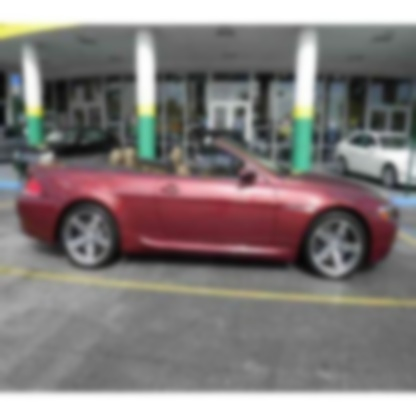Vehicle: (16, 137, 402, 282)
